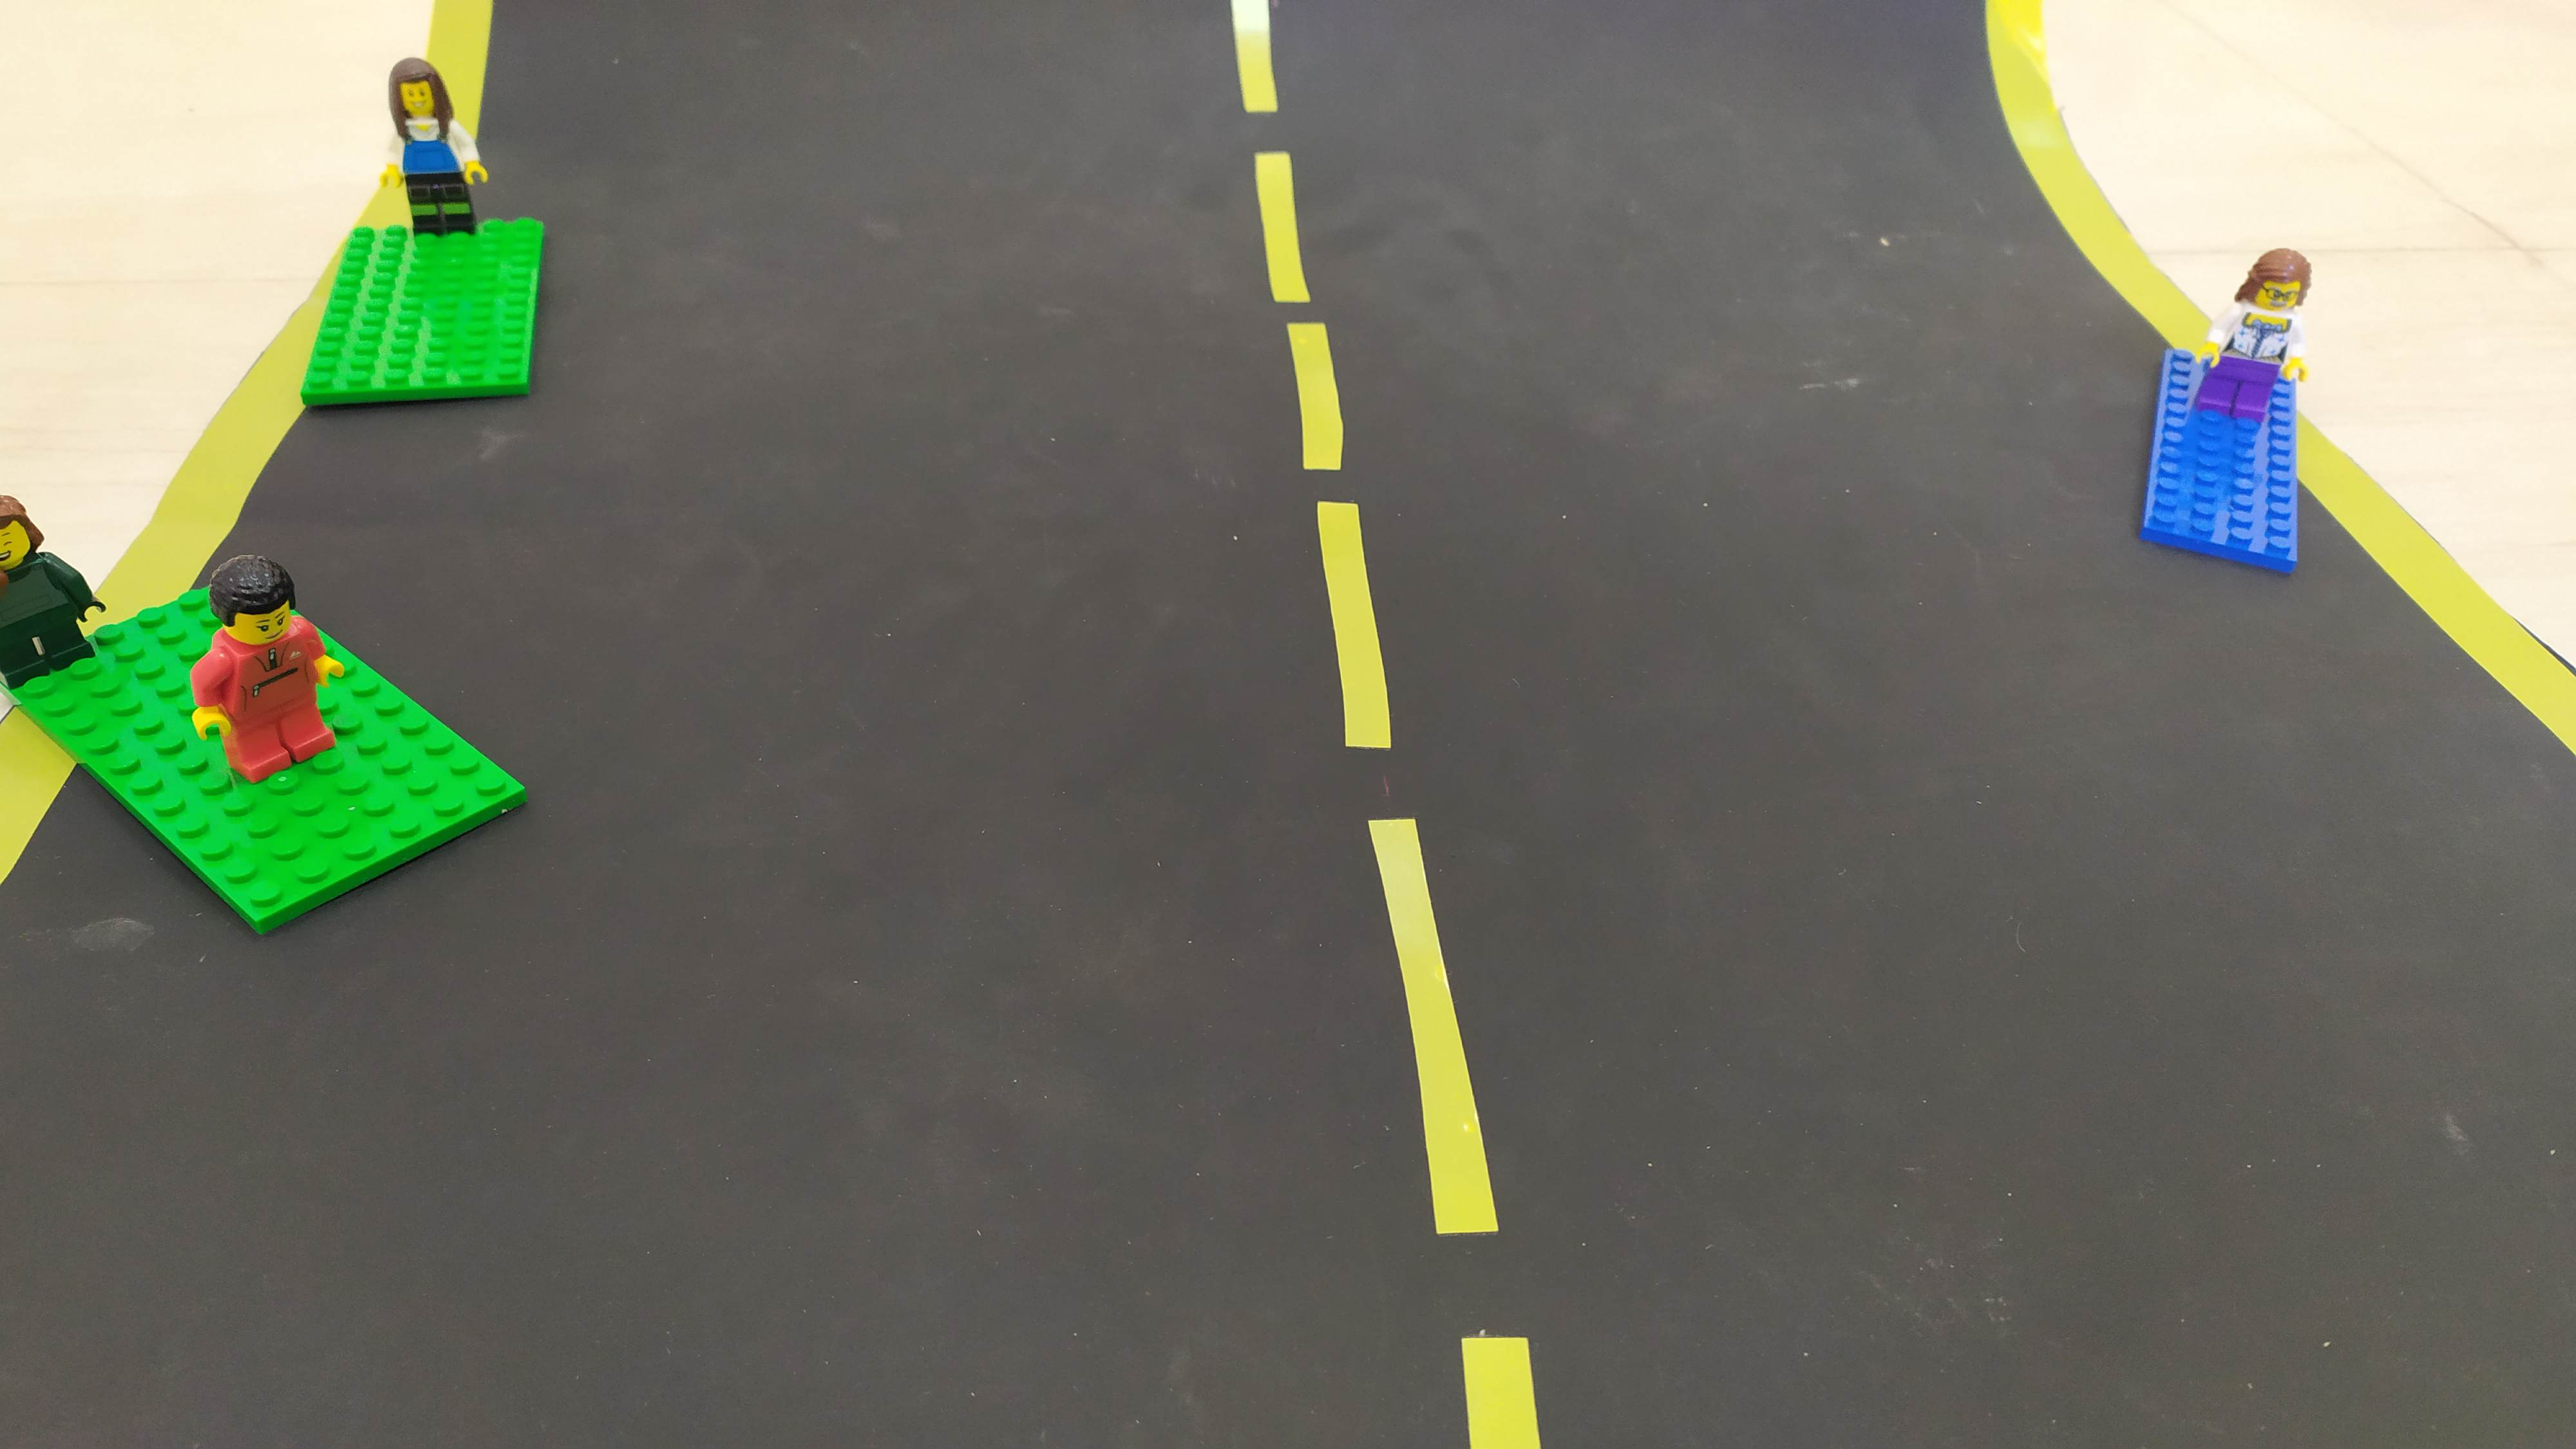Person: (177, 544, 325, 802), (2161, 229, 2347, 428), (370, 55, 480, 248), (1, 486, 74, 644)
